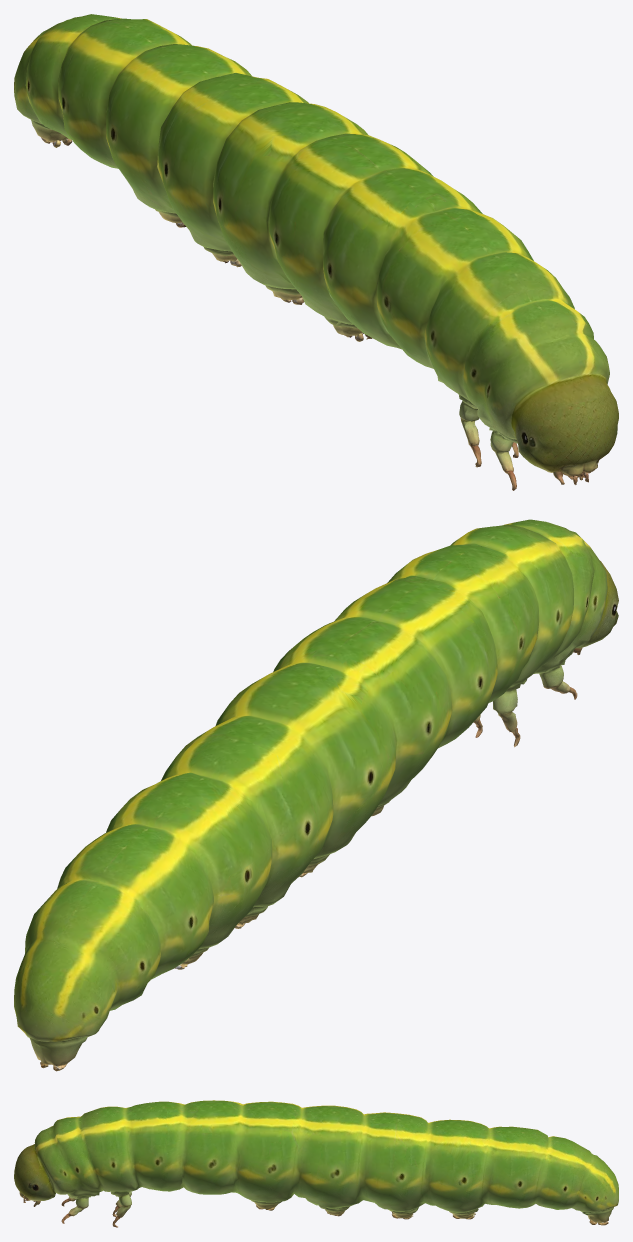
Rendered from butterfly-larva.glb.
The picture shows the model from 3 angles, top to bottom: view 1: azimuth 30°, elevation 25°; view 2: azimuth 150°, elevation 25°; view 3: azimuth 270°, elevation 25°; orthographic projection. The views are drawn at different scales.
Bounding box in the file's own units: 0.1567 × 0.2046 × 0.9517.
Materials: 1 (1 with a texture image).
